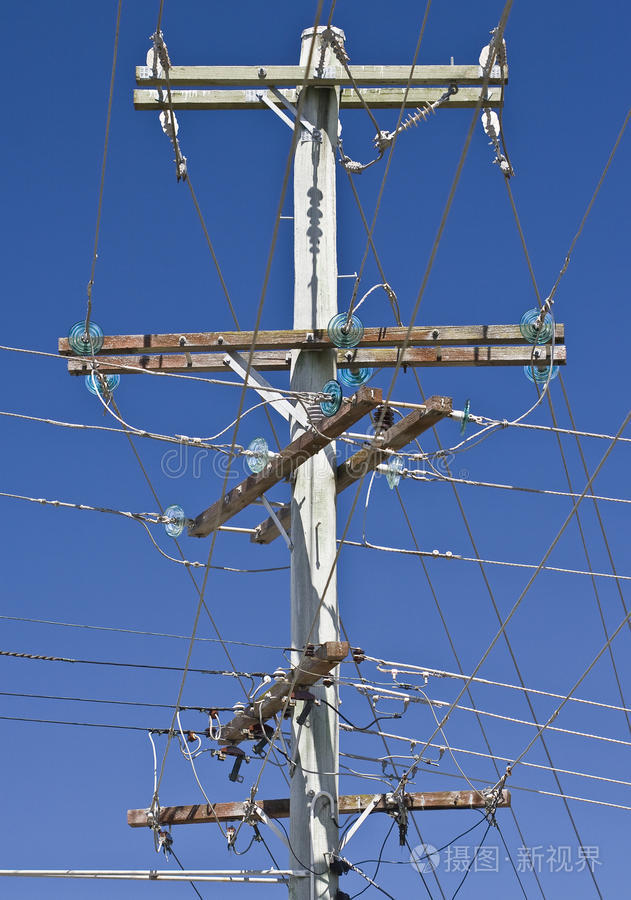insulator: (69, 323, 109, 356), (328, 311, 363, 348), (523, 308, 556, 343), (159, 504, 188, 542), (317, 379, 344, 417), (246, 436, 270, 477), (522, 362, 565, 380), (340, 364, 377, 384)
